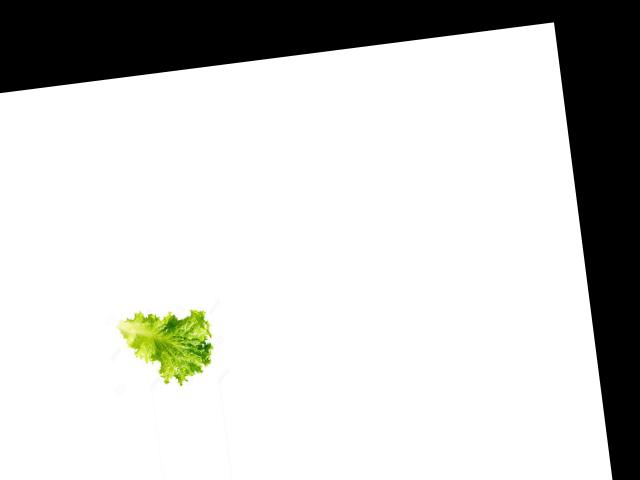lettuce: (115, 307, 217, 391)
